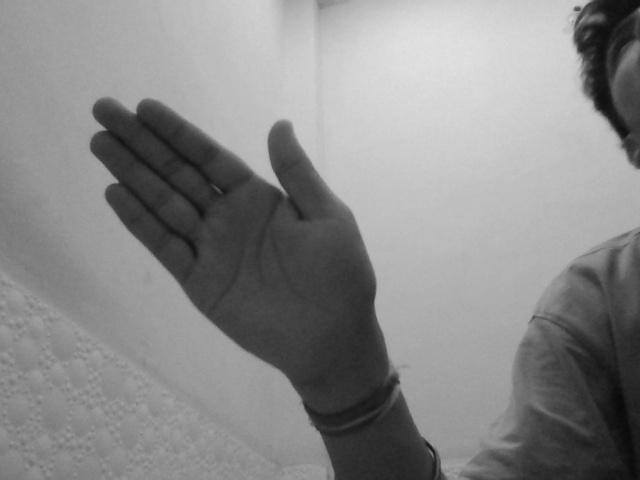Hello: (83, 90, 387, 387)
